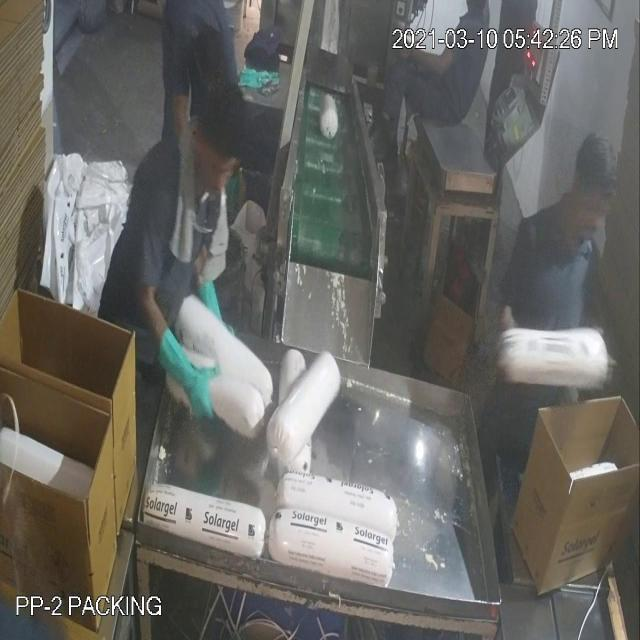gloves: (146, 324, 220, 448)
no-gloves: (389, 44, 465, 78)
